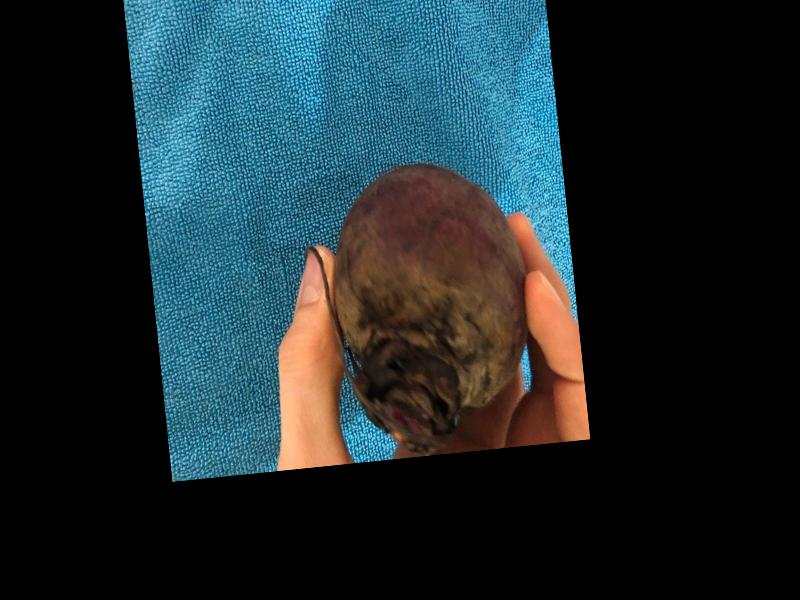Beet: (298, 154, 542, 460)
